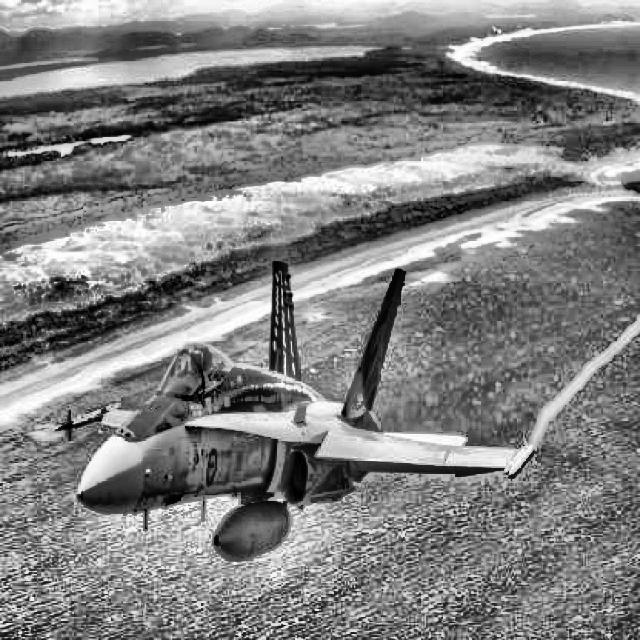F18: (55, 260, 538, 562)
